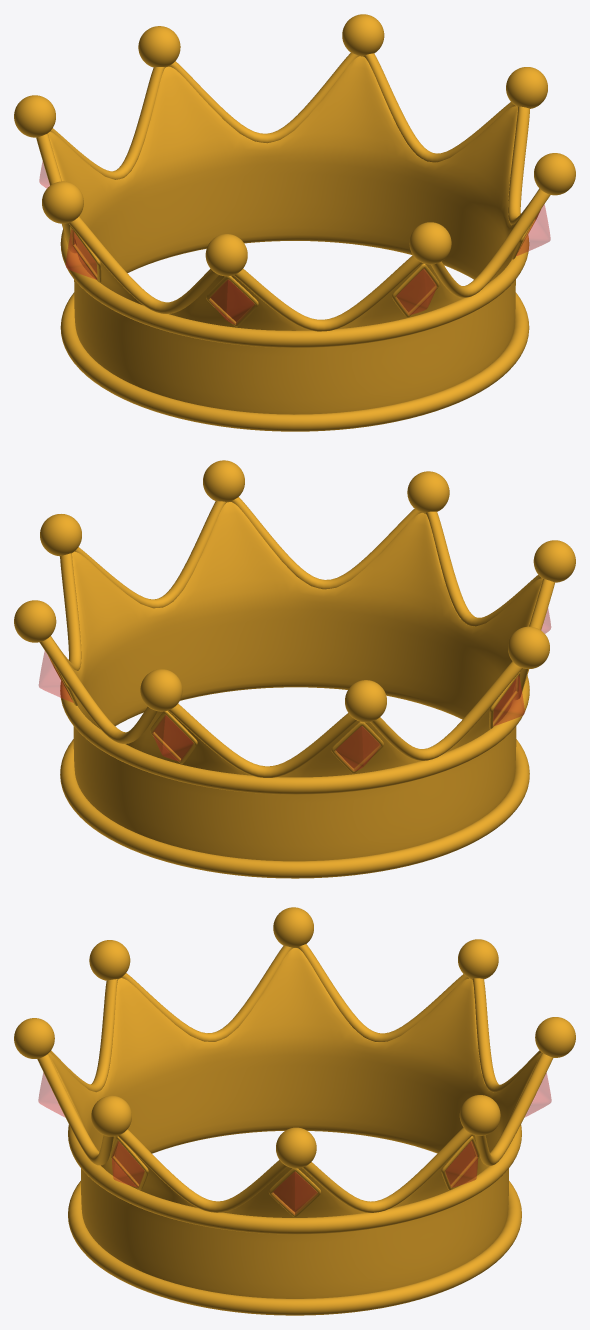
The model's file is crown-3d-icon-1479389037585.glb.
3 renders of one model, top to bottom at view 1: azimuth 30°, elevation 25°; view 2: azimuth 150°, elevation 25°; view 3: azimuth 270°, elevation 25°, orthographic. The views are drawn at different scales.
Parts seen in each view (by area): view 1: Crown, Diamonds; view 2: Crown, Diamonds; view 3: Crown, Diamonds.
Boxes of the visible parts, box(x1,y1,x2,y2) form: Crown: box(14, 14, 575, 431); Diamonds: box(39, 161, 550, 324); Crown: box(14, 460, 575, 878); Diamonds: box(39, 609, 550, 770); Crown: box(14, 907, 575, 1315); Diamonds: box(38, 1073, 551, 1214).
Size of the model in its own units: 2.03 by 0.8094 by 2.03.
